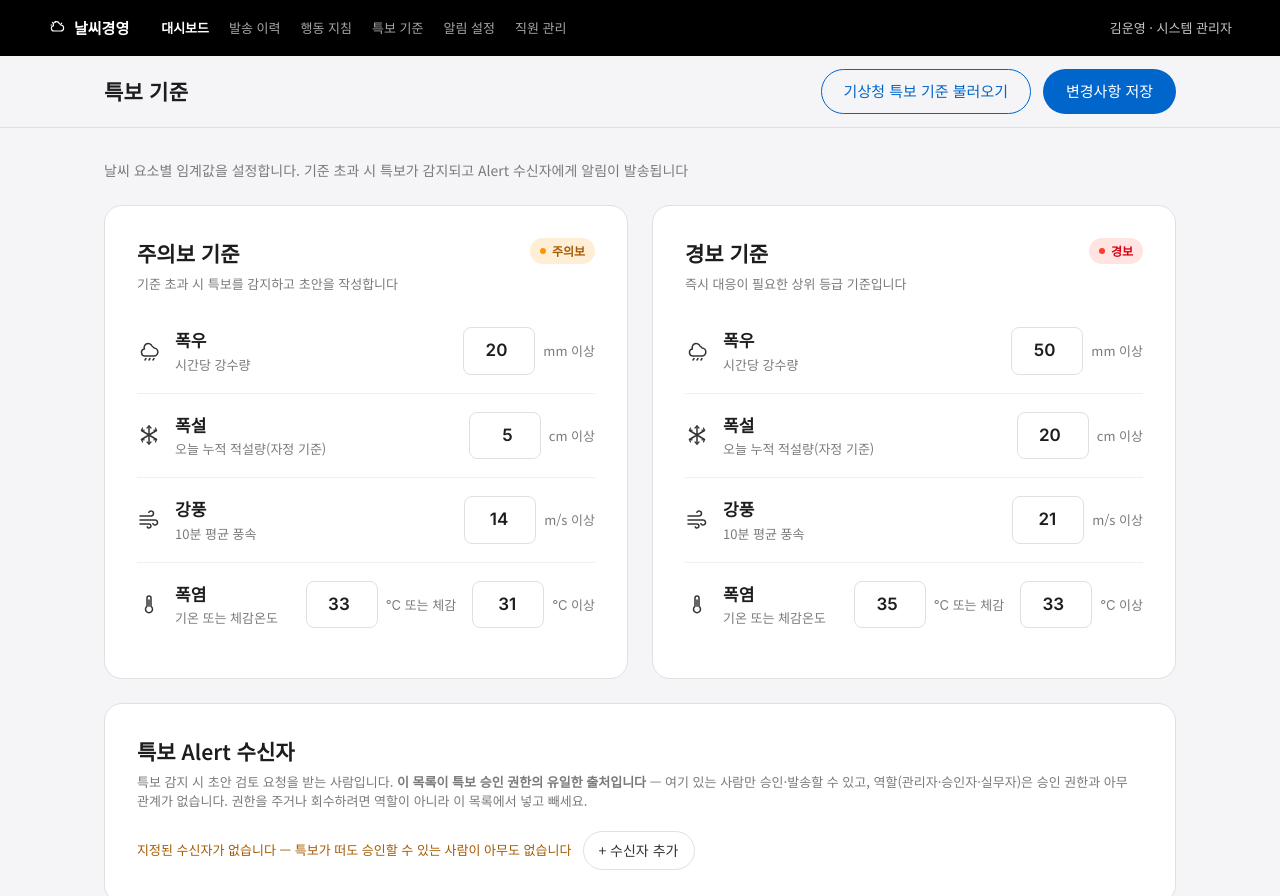
Test: Criteria 기준 값 검증 (W-10) › 입력칸을 비우면 0을 보내지 않고 저장을 막는다
Clear the number field named "주의보 폭우 기준 · 시간당 강수량 (mm 이상)" at {"x": 499, "y": 351}, box [463,327,535,374]
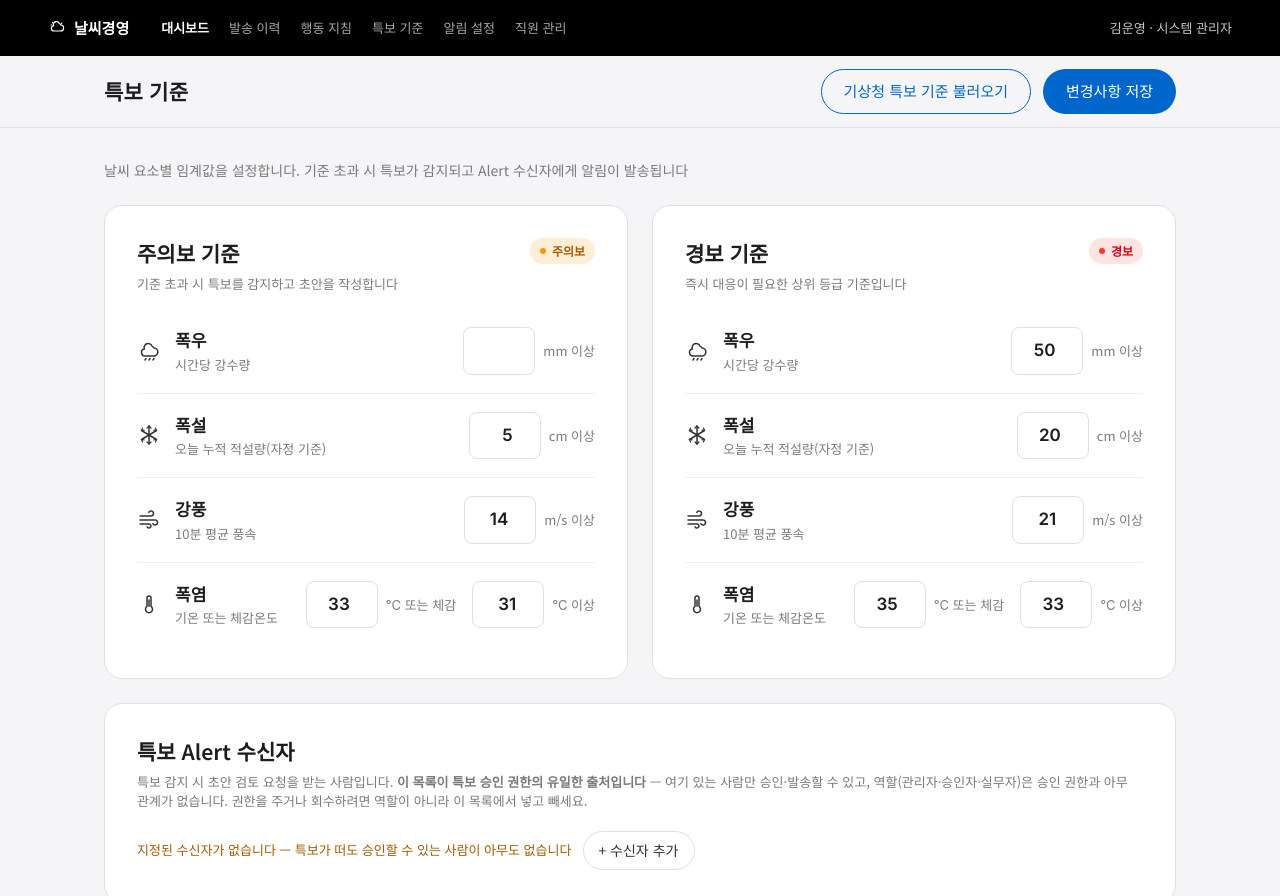
Click the button "변경사항 저장".
click(1110, 92)  # box [1043,69,1176,114]
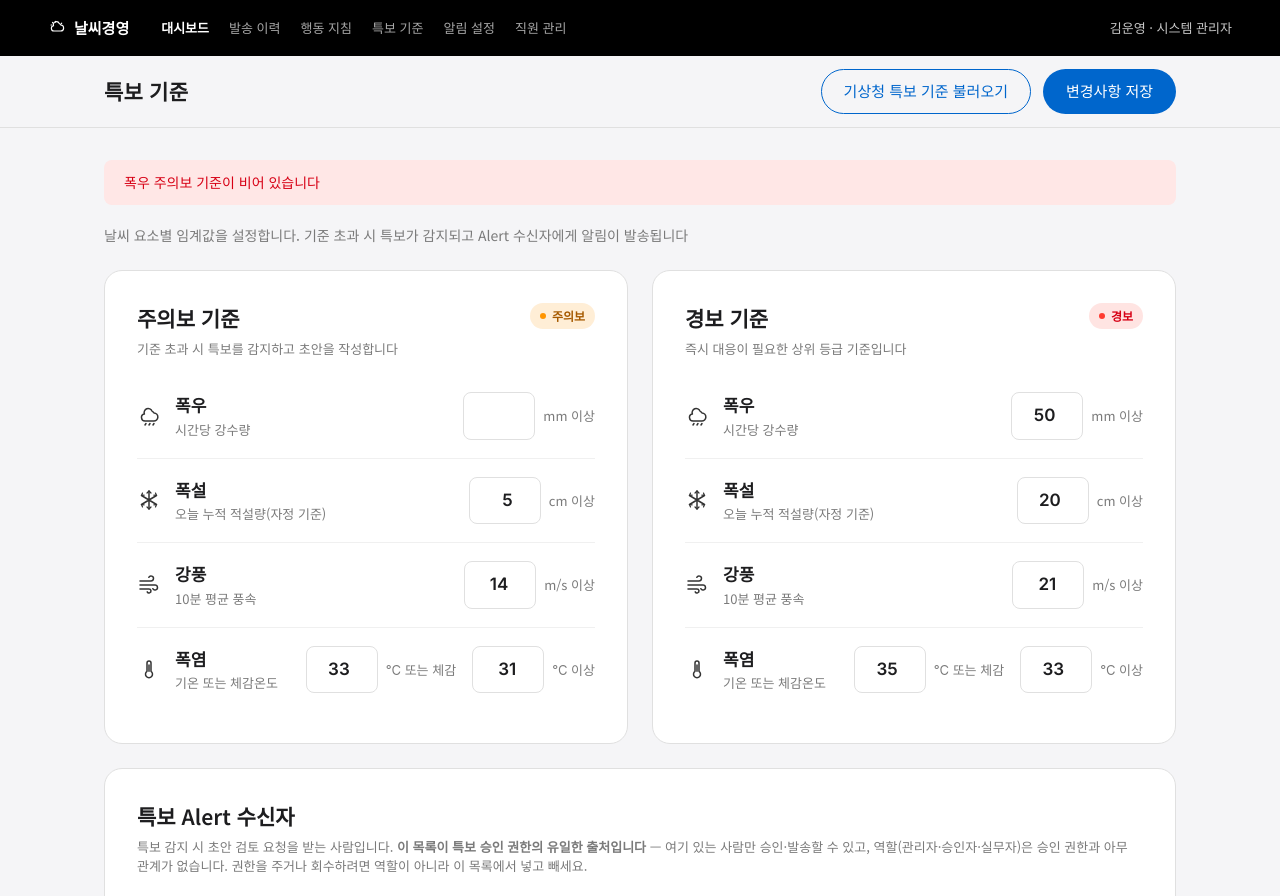
Expected: the text "폭우 주의보 기준이 비어 있습니다" is shown, [104,160,1176,205]
